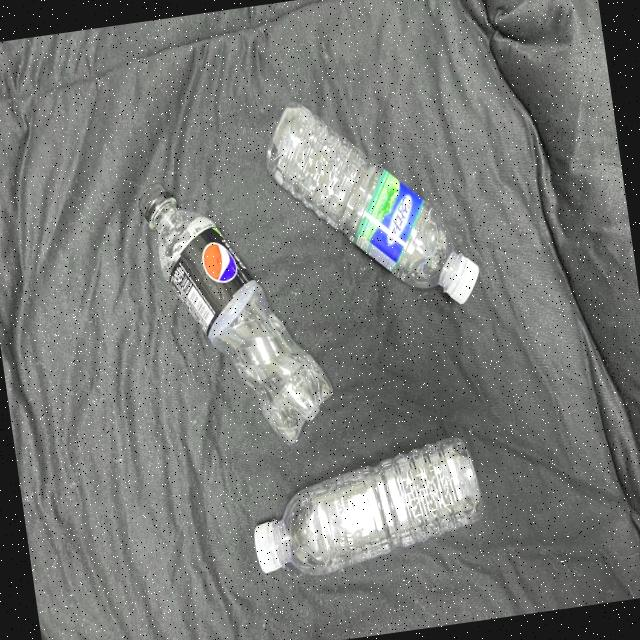bottle: (114, 158, 348, 463), (250, 82, 493, 321), (237, 416, 500, 598)
cap: (250, 520, 296, 580), (444, 250, 490, 310), (132, 184, 182, 222)
label: (153, 226, 270, 330), (355, 153, 430, 272)
